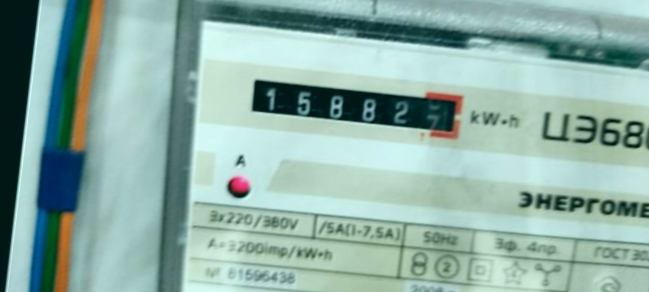1: (261, 88, 277, 115)
2: (390, 101, 408, 127)
5: (292, 91, 311, 119)
7: (422, 113, 439, 134)
8: (325, 96, 344, 123), (358, 99, 376, 125)
screen: (233, 64, 471, 154)
